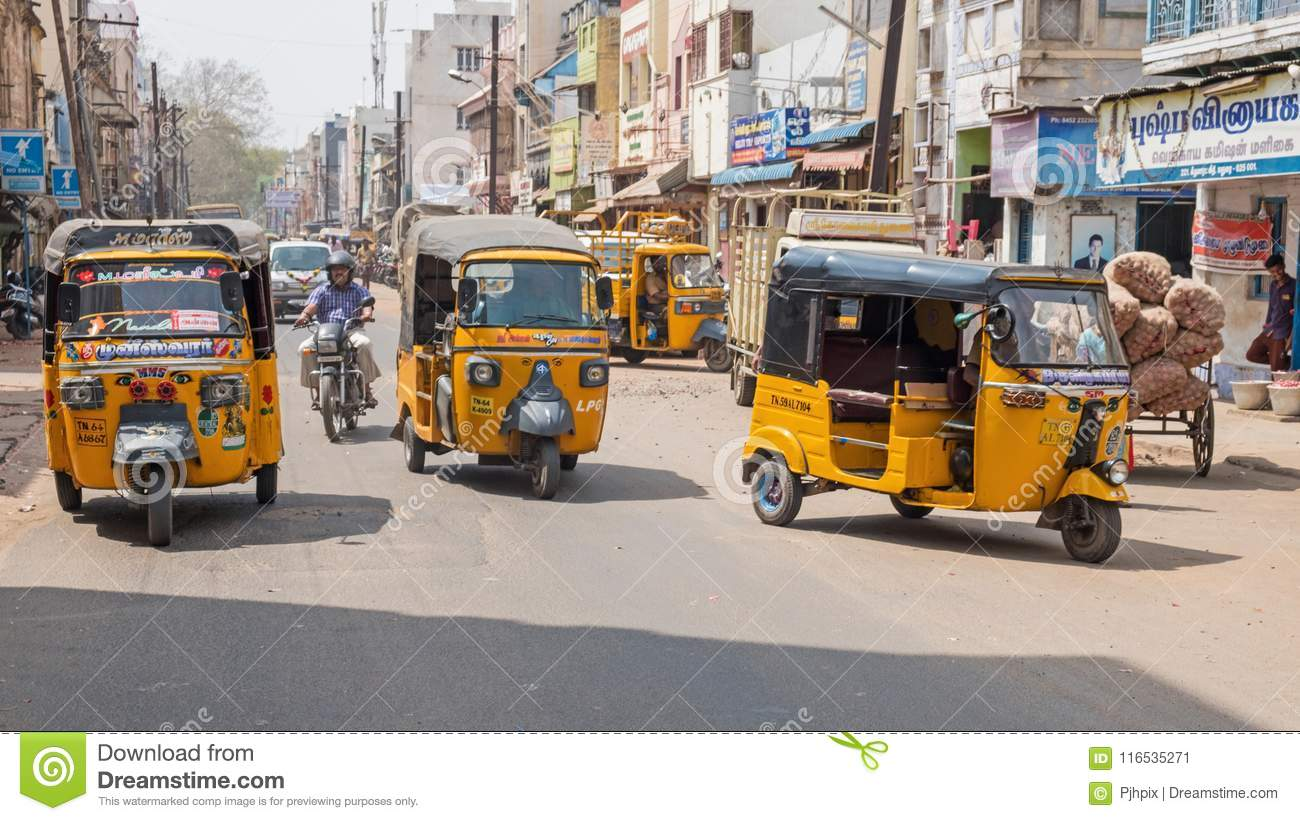bike: (305, 256, 378, 440)
car: (262, 233, 323, 301)
rickshaw: (753, 229, 1131, 566), (35, 212, 285, 547), (387, 208, 619, 503), (599, 225, 737, 385)
